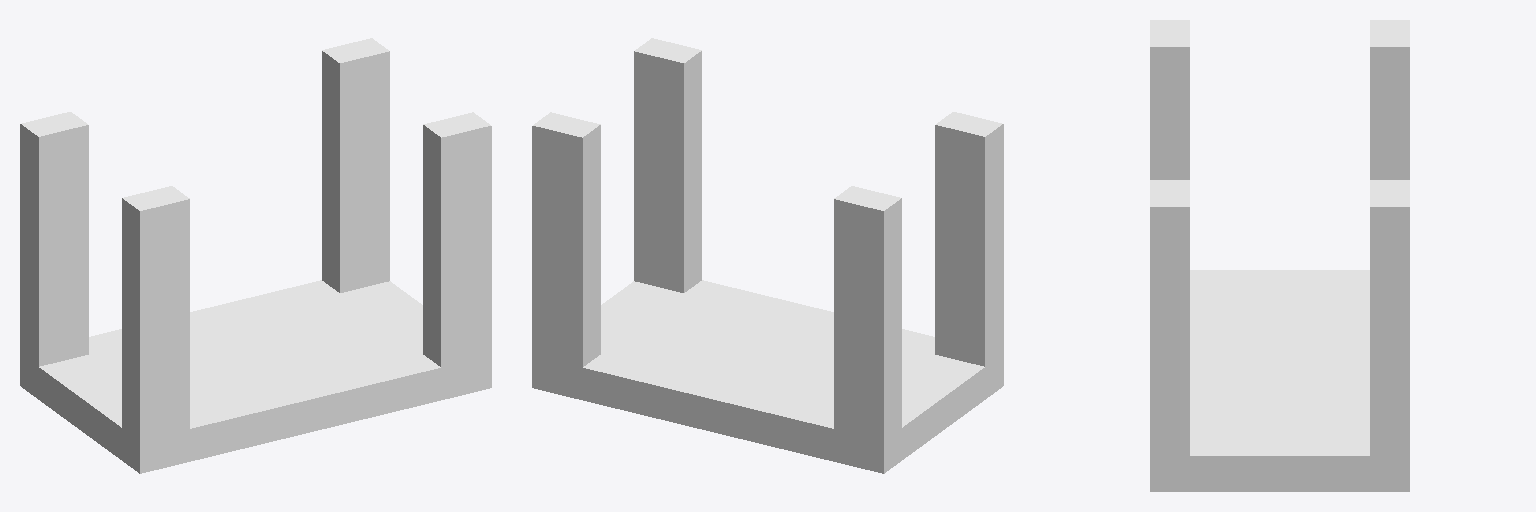
URDF robot description (Buckle):
<?xml version="1.0" ?>
<robot name="Buckle">
  <link name="Buckle">
    <contact>
      <lateral_friction value="1.0"/>
      <rolling_friction value="1.0"/>
      <inertia_scaling value="3.0"/>
      <contact_cdm value="0.0"/>
      <contact_erp value="1.0"/>
    </contact>
    <inertial>
      <origin rpy="0 0 0" xyz="0 0 0"/>
      <mass value="1.0"/>
      <inertia ixx="0" ixy="0" ixz="0" iyy="0" iyz="0" izz="0"/>
    </inertial>
    <visual>
      <origin rpy="0 0 0" xyz="0 0 0"/>
      <geometry>
        <mesh filename="Buckle_vis.obj" scale="1.0 1.0 1.0"/>
      </geometry>
      <material name="blockmat">
        <color rgba="1.0 1.0 1.0 1.0"/>
      </material>
    </visual>
    <collision>
      <origin rpy="0 0 0" xyz="0 0 0"/>
      <geometry>
        <mesh filename="Buckle_col.obj" scale="1.0 1.0 1.0"/>
      </geometry>
    </collision>
  </link>
</robot>

--- Facts derived from the render (not from the file) ---
Views: 3 orthographic renders of the robot side by side, from view 1: azimuth 30°, elevation 25°; view 2: azimuth 150°, elevation 25°; view 3: azimuth 270°, elevation 25°.
Model Buckle with 1 links and 0 joints (none), rooted at Buckle, posed every joint at zero.
Visible links, largest first — view 1: Buckle; view 2: Buckle; view 3: Buckle.
Boxes of the visible links, x1,y1,x2,y2 form: Buckle: [20, 38, 491, 473]; Buckle: [532, 38, 1003, 473]; Buckle: [1150, 20, 1409, 491].
Size in the robot's own frame: 0.056 by 0.033 by 0.04 metres.
Meshes: 1 distinct files referenced, 1 mesh visuals loaded (1 OBJ).
